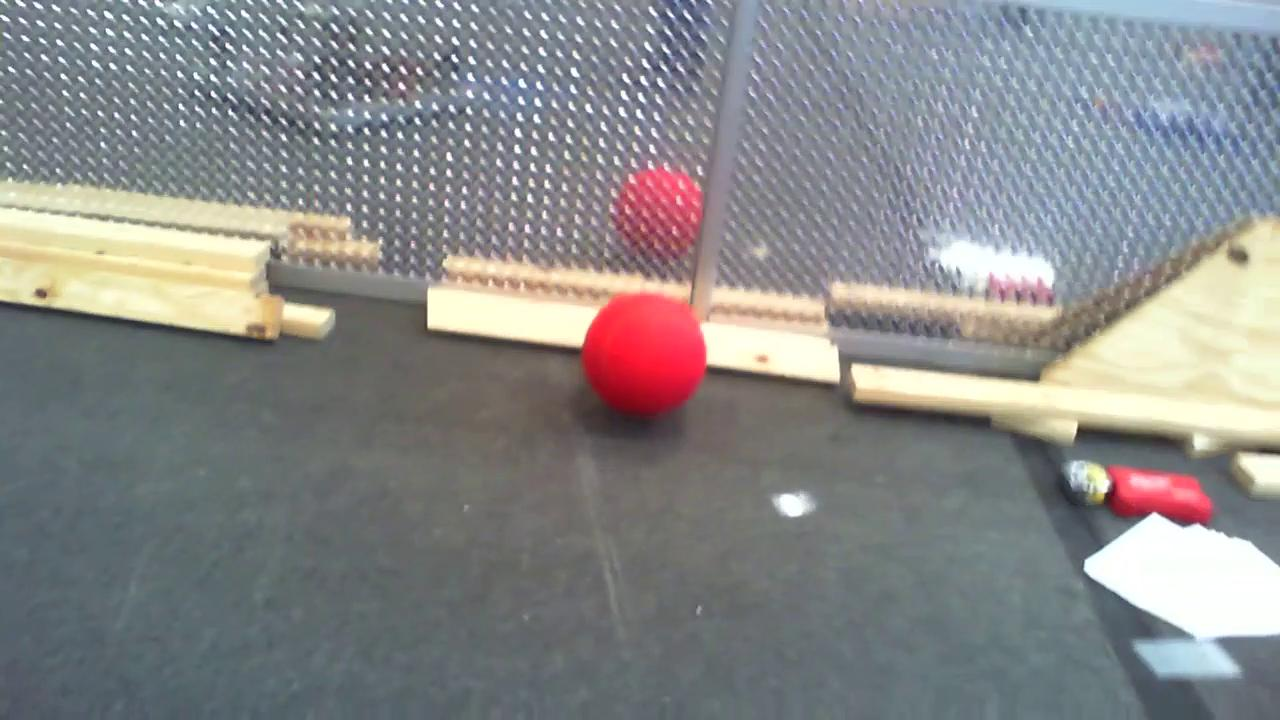Red_Ball: (581, 276, 720, 416), (618, 155, 707, 254)
